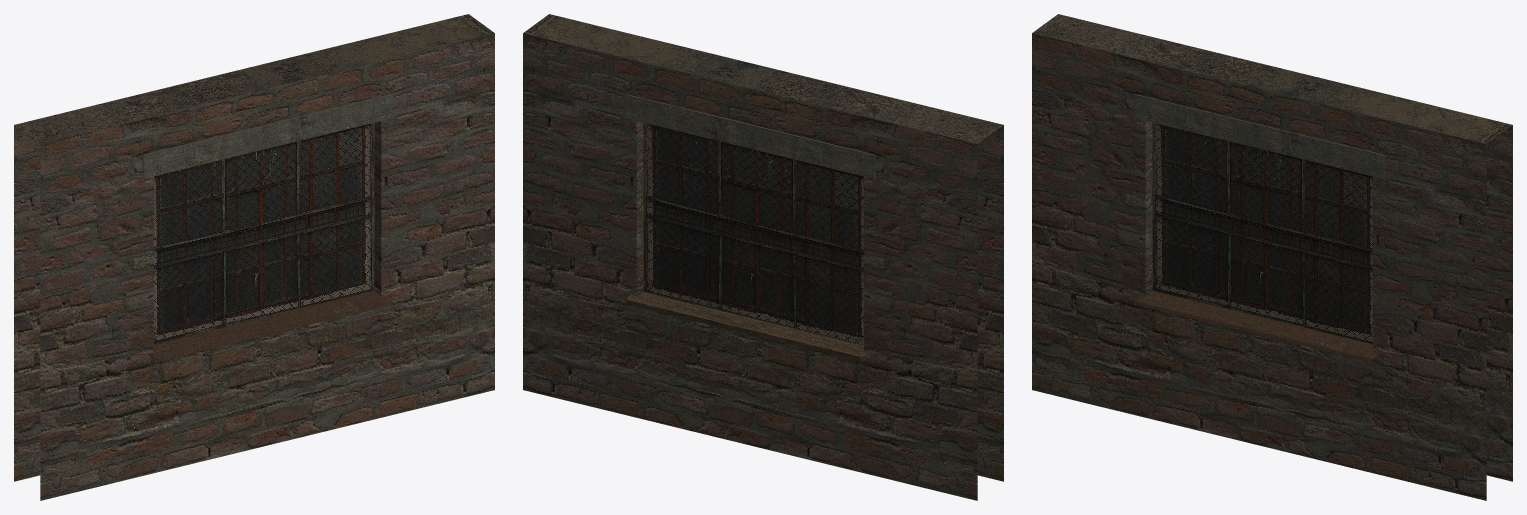
The model's file is window_hr_2.glb.
3 renders of one model, left to right at view 1: azimuth 30°, elevation 25°; view 2: azimuth 150°, elevation 25°; view 3: azimuth 330°, elevation 25°, orthographic.
Visible parts, largest first — view 1: window_hr_2; view 2: window_hr_2; view 3: window_hr_2.
Part boxes in pixels (x1,y1,x2,y2): window_hr_2: (14,14,494,500); window_hr_2: (523,14,1003,500); window_hr_2: (1032,14,1512,500).
Size of the model in its own units: 4 by 3 by 0.595.
6 materials, 6 textured.
